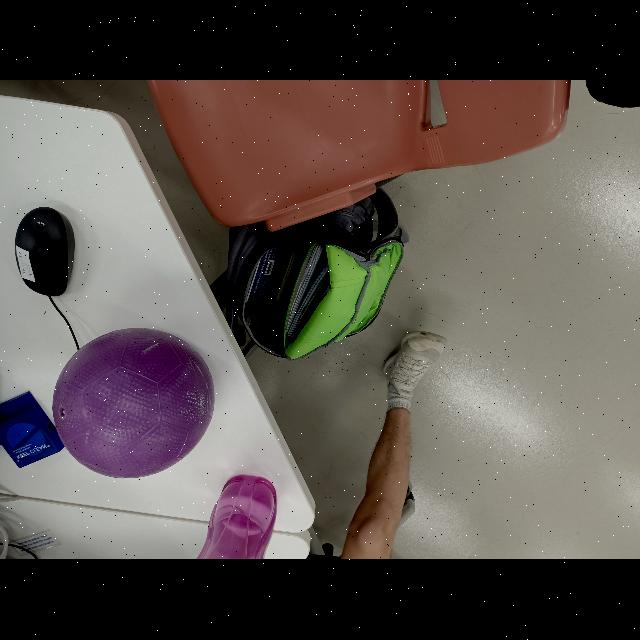P: (54, 329, 216, 478)
